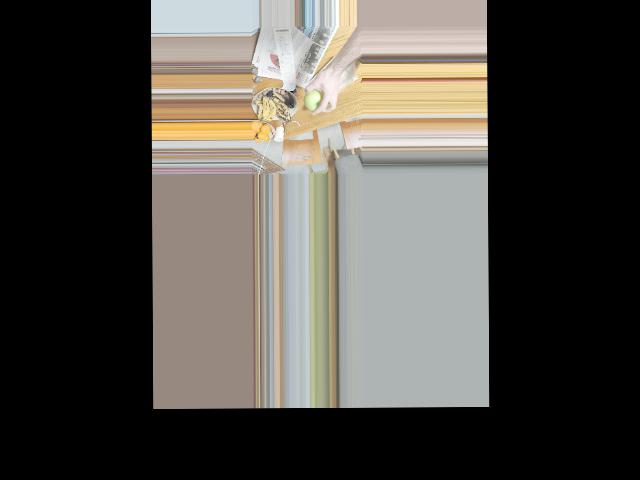apple: (304, 86, 325, 114)
